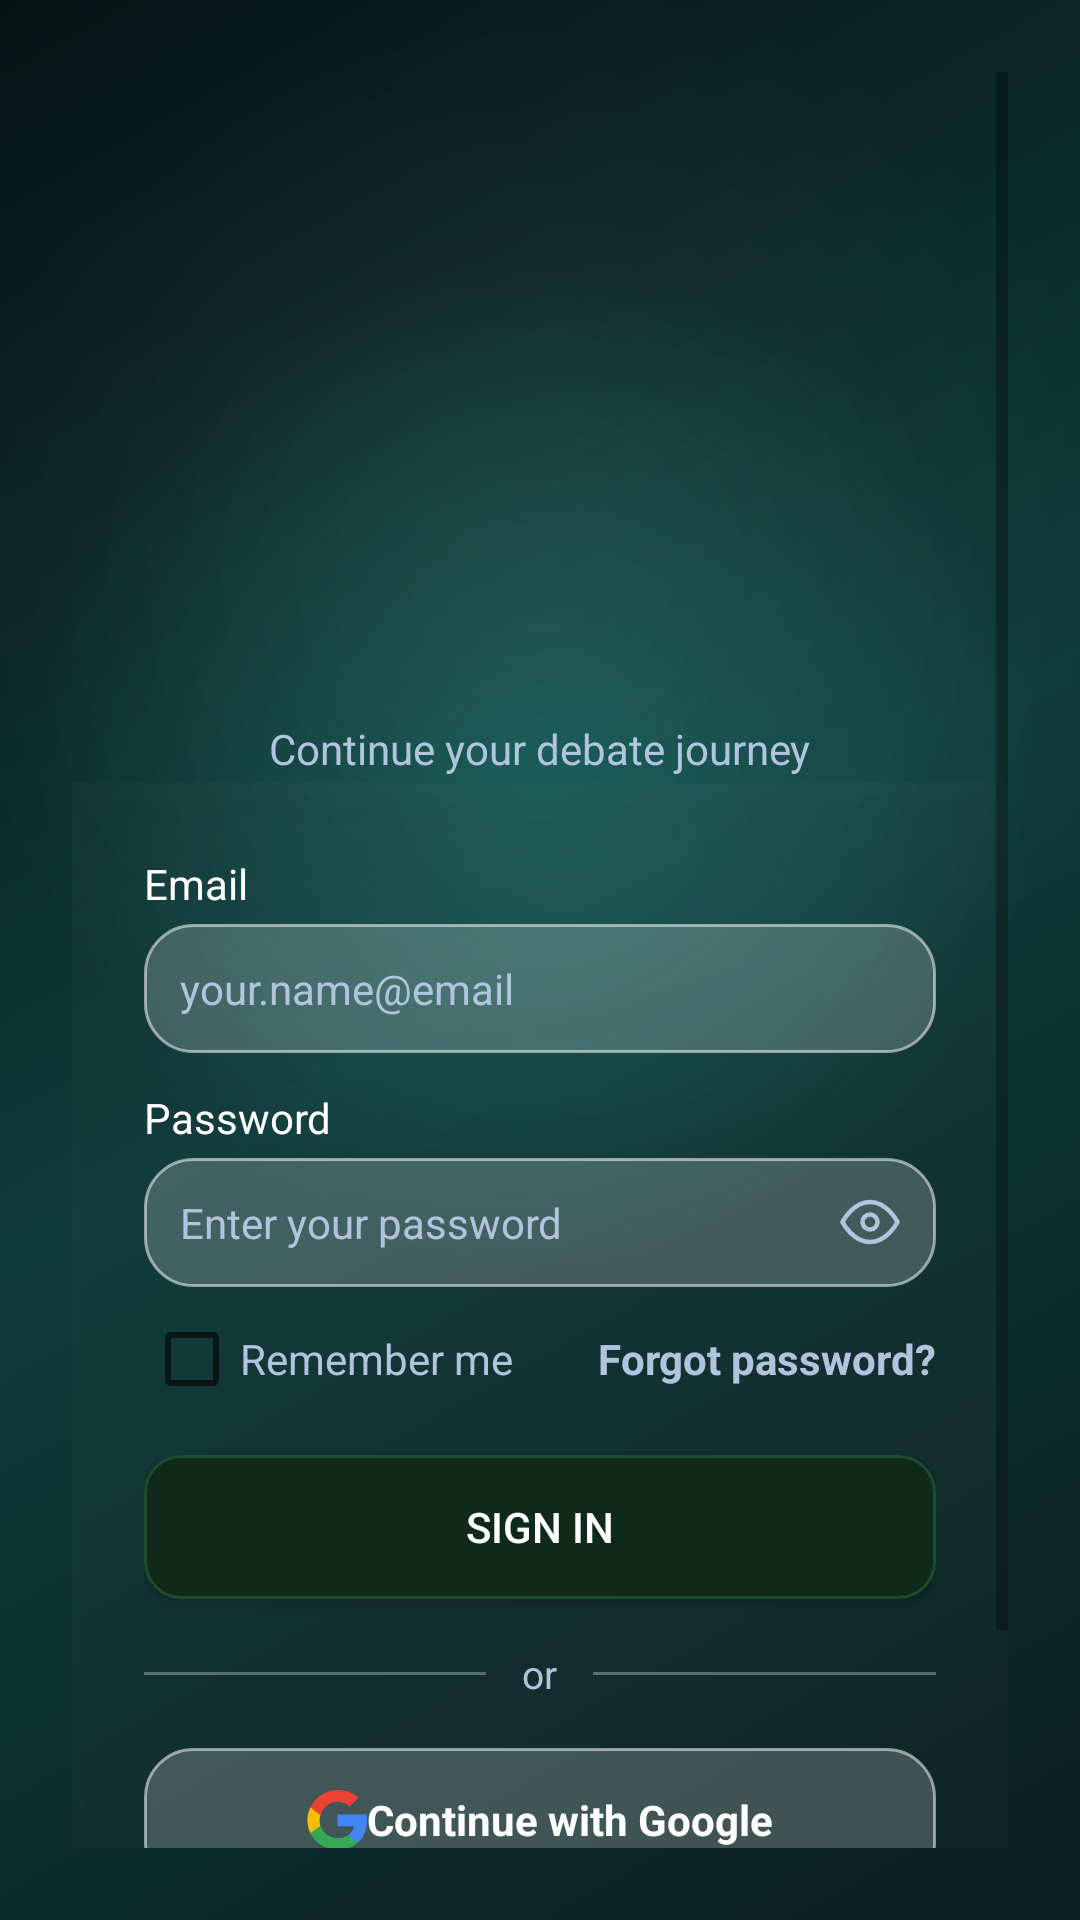

Screen size 1080px x 1920px. Icon name, then its box in pixels as (x1, y1, x2, y2):
eye: (840, 1199, 900, 1245)
